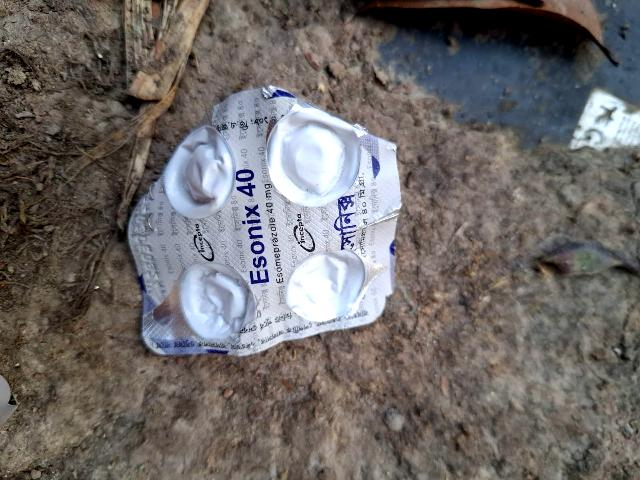medicine: (129, 103, 413, 349)
